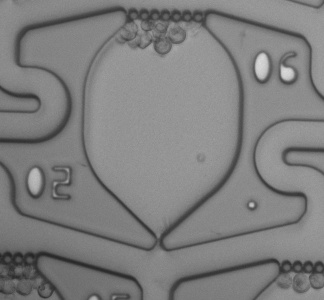AptNum: (243, 47, 305, 92)
Marker: (237, 192, 267, 219)
StNum: (18, 158, 80, 208)
Trap: (137, 240, 181, 282)
